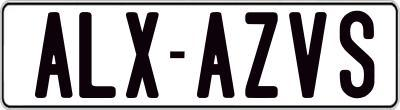A: (194, 11, 234, 98), (34, 11, 73, 100)
L: (77, 9, 115, 100)
S: (340, 10, 377, 103)
V: (289, 12, 328, 104)
X: (125, 10, 161, 98)
Z: (245, 12, 278, 101)
